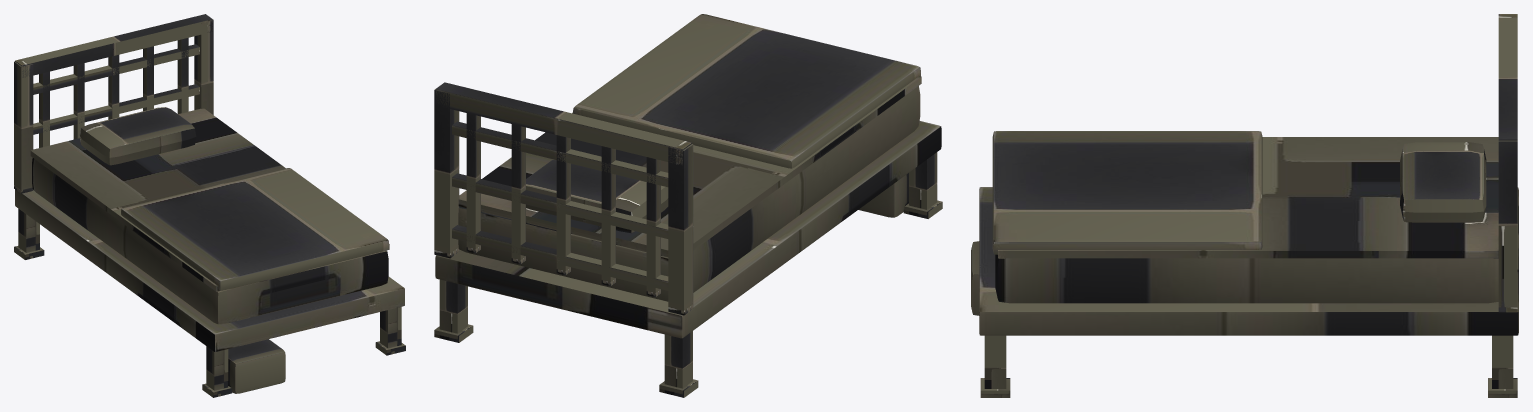
File: DD_bed.glb
3 renders of one model, left to right at view 1: azimuth 30°, elevation 25°; view 2: azimuth 150°, elevation 25°; view 3: azimuth 270°, elevation 25°, orthographic. The views are drawn at different scales.
Parts seen in each view (by area): view 1: DD_bed; view 2: DD_bed; view 3: DD_bed.
Boxes of the visible parts, x1,y1,x2,y2 form: DD_bed: [14, 14, 405, 397]; DD_bed: [434, 14, 942, 397]; DD_bed: [971, 14, 1518, 397].
Size of the model in its own units: 1.11 by 1.05 by 2.03.
1 material, 1 textured.
